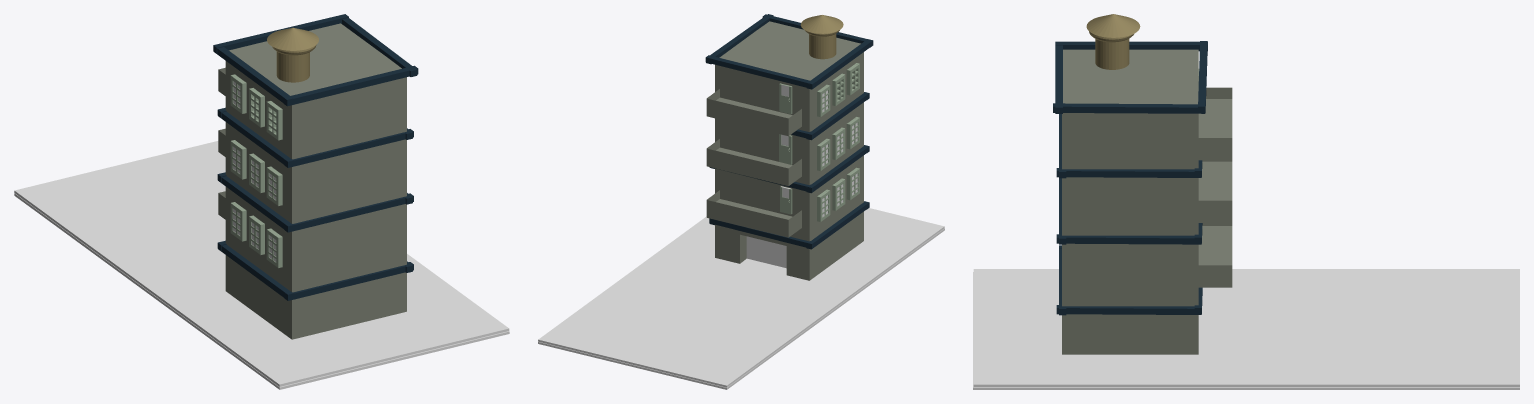
File: building69.fbx
3 renders of one model, left to right at view 1: azimuth 30°, elevation 25°; view 2: azimuth 150°, elevation 25°; view 3: azimuth 270°, elevation 25°, orthographic. The views are drawn at different scales.
Visible parts, largest first — view 1: Cube, Cube.034, Cube.033, Cube.001, Cube.002, Cube.006, Cube.062, Cube.066, Cube.058, Cube.005, Cone, Cylinder (+14 smaller); view 2: Cube.034, Cube, Cube.002, Cube.018, Cube.019, Cube.020, Cube.001, Cube.004, Cube.005, Cube.007, Cube.065, Cone (+16 smaller); view 3: Cube, Cube.034, Cube.002, Cube.033, Cube.018, Cube.020, Cube.019, Cube.001, Cube.008, Cube.064, Cube.068, Cube.060 (+5 smaller).
Boxes of the visible parts, <box> form: Cube: <box>225,23,406,339</box>; Cube.034: <box>14,141,225,289</box>; Cube.033: <box>147,254,506,384</box>; Cube.001: <box>14,193,509,389</box>; Cube.002: <box>147,255,509,386</box>; Cube.006: <box>283,65,418,106</box>; Cube.062: <box>284,193,413,232</box>; Cube.066: <box>284,262,413,300</box>; Cube.058: <box>284,129,413,167</box>; Cube.005: <box>213,14,348,53</box>; Cone: <box>267,27,318,50</box>; Cylinder: <box>276,51,309,82</box>; Cube.034: <box>538,260,835,387</box>; Cube: <box>715,21,863,280</box>; Cube.002: <box>647,208,944,305</box>; Cube.018: <box>706,89,801,136</box>; Cube.019: <box>706,139,801,186</box>; Cube.020: <box>706,190,801,237</box>; Cube.001: <box>538,228,944,389</box>; Cube.004: <box>746,236,786,268</box>; Cube.005: <box>705,55,815,88</box>; Cube.007: <box>806,39,872,89</box>; Cube.065: <box>709,218,814,248</box>; Cone: <box>800,15,843,33</box>; Cube: <box>1062,49,1198,354</box>; Cube.034: <box>1246,269,1519,386</box>; Cube.002: <box>973,269,1246,386</box>; Cube.033: <box>978,269,1251,386</box>; Cube.018: <box>1198,87,1232,160</box>; Cube.020: <box>1198,223,1232,287</box>; Cube.019: <box>1198,160,1232,222</box>; Cube.001: <box>973,272,1519,389</box>; Cube.008: <box>1053,103,1205,113</box>; Cube.064: <box>1056,234,1201,244</box>; Cube.068: <box>1056,305,1201,314</box>; Cube.060: <box>1056,168,1201,177</box>.
Bounding box in the file's own units: 4000 × 4866 × 8000.
